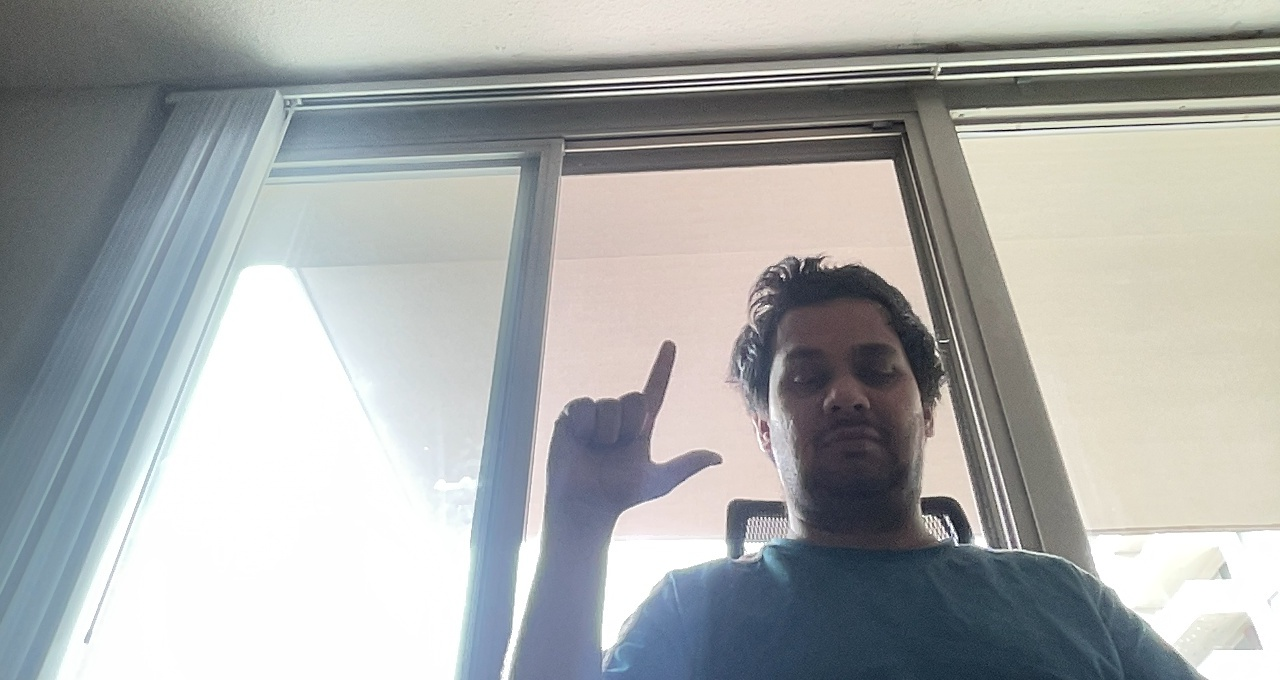L: (536, 334, 728, 524)
